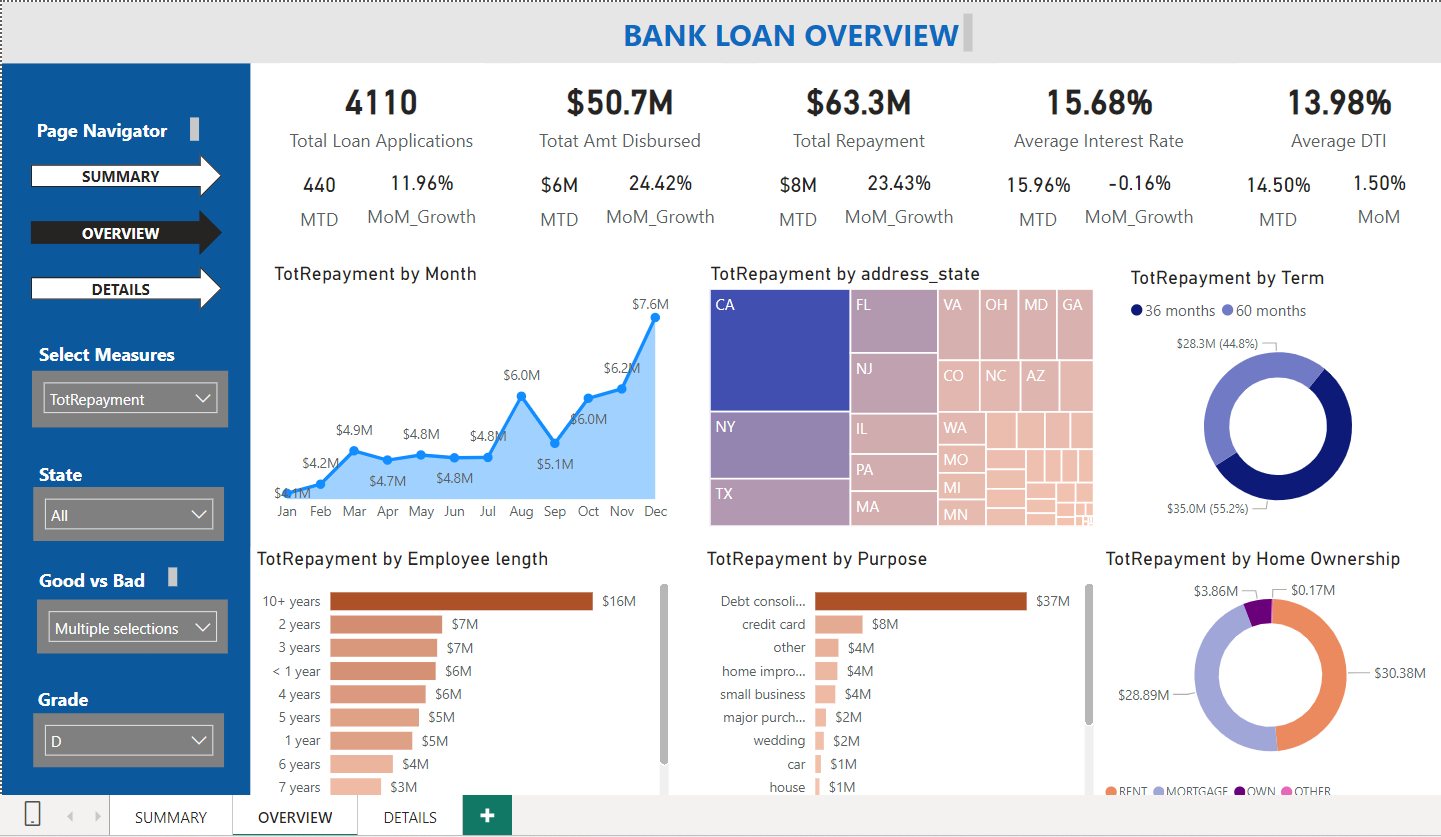

This screenshot's page, from the dashboard's own definition file:
{"tool":"powerbi","page":{"name":"OVERVIEW","canvas":[1280,720],"ordinal":1},"visuals":[{"type":"shape","box":[0,54.7,220.9,665.1],"z":0},{"type":"card","fields":{"Values":["LoanData.TotLoanApplications"]},"box":[246.5,54.7,181.4,87.2],"z":0,"group":"g1"},{"type":"card","fields":{"Values":["LoanData.TotAmtDisbursed"]},"box":[459,54.7,181.4,87.2],"z":0,"group":"g2"},{"type":"card","fields":{"Values":["LoanData.TotRepayment"]},"box":[671.4,54.7,181.4,87.2],"z":0,"group":"g3"},{"type":"card","fields":{"Values":["LoanData.AvgIntRate"]},"box":[884.6,54.7,181.4,87.2],"z":0,"group":"g4"},{"type":"card","fields":{"Values":["LoanData.AvgDTI"]},"box":[1097.8,54.7,181.4,87.2],"z":0,"group":"g5"},{"type":"shape","box":[0,0,1280.2,54.7],"z":1000},{"type":"card","fields":{"Values":["LoanData.MTD_TotApplications"]},"box":[246.6,142.3,70.9,64],"z":1000,"group":"g1"},{"type":"card","fields":{"Values":["LoanData.MTD_TotDisbursed"]},"box":[458.6,142.3,73.3,64],"z":1000,"group":"g2"},{"type":"card","fields":{"Values":["LoanData.MTD_TotRepayment"]},"box":[671,142.3,73.3,64],"z":1000,"group":"g3"},{"type":"card","fields":{"Values":["LoanData.MTD_IntRate"]},"box":[884.2,142.3,73.3,64],"z":1000,"group":"g4"},{"type":"card","fields":{"Values":["LoanData.MTD_DTI"]},"box":[1097.4,142.3,73.3,64],"z":1000,"group":"g5"},{"type":"textbox","box":[546.7,5.6,321.1,44.4],"z":2000},{"type":"card","fields":{"Values":["LoanData.MoM_LoanAppl"]},"box":[317.4,139.6,110.5,66.3],"z":2000,"group":"g1"},{"type":"card","fields":{"Values":["LoanData.MoM_AmtDisbursed"]},"box":[530,139.6,110.5,66.3],"z":2000,"group":"g2"},{"type":"card","fields":{"Values":["LoanData.MoM_TotRepayment"]},"box":[742.4,139.6,110.5,66.3],"z":2000,"group":"g3"},{"type":"card","fields":{"Values":["LoanData.MoM_IntRate"]},"box":[955.6,139.6,110.5,66.3],"z":2000,"group":"g4"},{"type":"card","fields":{"Values":["LoanData.MoM_DTI"]},"box":[1168.8,139.6,110.5,66.3],"z":2000,"group":"g5"},{"type":"group","id":"g1","title":"Group 1","box":[246.5,54.7,181.4,151.2],"z":3000},{"type":"group","id":"g2","title":"Group 1","box":[458.6,54.7,181.8,151.6],"z":4000},{"type":"group","id":"g3","title":"Group 1","box":[671,54.7,182.6,151.2],"z":5000},{"type":"group","id":"g4","title":"Group 1","box":[884.2,54.7,182.6,151.2],"z":6000},{"type":"group","id":"g5","title":"Group 1","box":[1097.4,54.7,182.6,151.2],"z":7000},{"type":"group","id":"g6","title":"Group 5","box":[27.4,403.8,169.8,75.6],"z":8000},{"type":"group","id":"g7","title":"Group 5","box":[27.8,498.1,172.8,81.1],"z":9000},{"type":"group","id":"g8","title":"Group 5","box":[26.7,602.9,170.4,76.5],"z":10000},{"type":"areaChart","fields":{"Y":["LoanData.TotRepayment"],"Category":["DateTable.Month"]},"box":[236.7,231.1,361.1,240],"z":11000},{"type":"group","id":"g9","title":"Group 2","box":[26.7,296.5,174.4,81.4],"z":12000},{"type":"slicer","fields":{"Values":["LoanData.address_state"]},"box":[27.4,431.7,169.8,47.7],"z":12000,"group":"g6"},{"type":"slicer","fields":{"Values":["LoanData.Good vs Bad loans"]},"box":[30.9,531.5,169.8,47.7],"z":12000,"group":"g7"},{"type":"slicer","fields":{"Values":["LoanData.grade"]},"box":[27.4,631.7,169.8,47.7],"z":12000,"group":"g8"},{"type":"textbox","box":[25.6,97.8,154.4,31.1],"z":13000,"group":"g10"},{"type":"treemap","fields":{"Values":["LoanData.TotRepayment"],"Group":["LoanData.address_state"]},"box":[624.4,231.1,351.1,240],"z":13000},{"type":"textbox","box":[27.9,296.5,140.7,31.4],"z":13000,"group":"g9"},{"type":"textbox","box":[27.4,403.8,54.7,31.4],"z":13000,"group":"g6"},{"type":"textbox","box":[27.8,498.1,133.3,36.7],"z":13000,"group":"g7"},{"type":"textbox","box":[26.7,602.9,82.6,32.6],"z":13000,"group":"g8"},{"type":"donutChart","fields":{"Y":["LoanData.TotRepayment"],"Category":["LoanData.term"]},"box":[997.8,234.4,273.3,236.7],"z":14000},{"type":"pageNavigator","box":[25.6,134.5,170,142.2],"z":14001,"group":"g10"},{"type":"slicer","fields":{"Values":["Select Measures.Select Measures"]},"box":[26.7,327.9,174.4,50],"z":14002,"group":"g9"},{"type":"barChart","fields":{"Y":["LoanData.TotRepayment"],"Category":["LoanData.emp_length"]},"box":[221.1,484.4,376.7,235.6],"z":15000},{"type":"barChart","fields":{"Y":["LoanData.TotRepayment"],"Category":["LoanData.purpose"]},"box":[621.1,484.4,354.4,235.6],"z":16000},{"type":"donutChart","fields":{"Y":["LoanData.TotRepayment"],"Category":["LoanData.home_ownership"]},"box":[975.6,484.4,304.4,235.6],"z":17000},{"type":"group","id":"g10","title":"Group 6","box":[25.6,97.8,170,178.9],"z":18000}]}

Visuals, with their boxes on the page's 1280x720 design canvas (x1, y1, x2, y2). These are canvas units, not pixel positions in the 1441x837 screenshot, which may show the page scaled, cropped or inside an application window:
shape: 0, 55, 221, 720
card - LoanData.TotLoanApplications: 246, 55, 428, 142
card - LoanData.TotAmtDisbursed: 459, 55, 640, 142
card - LoanData.TotRepayment: 671, 55, 853, 142
card - LoanData.AvgIntRate: 885, 55, 1066, 142
card - LoanData.AvgDTI: 1098, 55, 1279, 142
shape: 0, 0, 1280, 55
card - LoanData.MTD_TotApplications: 247, 142, 318, 206
card - LoanData.MTD_TotDisbursed: 459, 142, 532, 206
card - LoanData.MTD_TotRepayment: 671, 142, 744, 206
card - LoanData.MTD_IntRate: 884, 142, 958, 206
card - LoanData.MTD_DTI: 1097, 142, 1171, 206
textbox: 547, 6, 868, 50
card - LoanData.MoM_LoanAppl: 317, 140, 428, 206
card - LoanData.MoM_AmtDisbursed: 530, 140, 640, 206
card - LoanData.MoM_TotRepayment: 742, 140, 853, 206
card - LoanData.MoM_IntRate: 956, 140, 1066, 206
card - LoanData.MoM_DTI: 1169, 140, 1279, 206
"Group 1" group: 246, 55, 428, 206
"Group 1" group: 459, 55, 640, 206
"Group 1" group: 671, 55, 854, 206
"Group 1" group: 884, 55, 1067, 206
"Group 1" group: 1097, 55, 1280, 206
"Group 5" group: 27, 404, 197, 479
"Group 5" group: 28, 498, 201, 579
"Group 5" group: 27, 603, 197, 679
areaChart - LoanData.TotRepayment x DateTable.Month: 237, 231, 598, 471
"Group 2" group: 27, 296, 201, 378
slicer - LoanData.address_state: 27, 432, 197, 479
slicer - LoanData.Good vs Bad loans: 31, 532, 201, 579
slicer - LoanData.grade: 27, 632, 197, 679
textbox: 26, 98, 180, 129
treemap - LoanData.TotRepayment x LoanData.address_state: 624, 231, 976, 471
textbox: 28, 296, 169, 328
textbox: 27, 404, 82, 435
textbox: 28, 498, 161, 535
textbox: 27, 603, 109, 636
donutChart - LoanData.TotRepayment x LoanData.term: 998, 234, 1271, 471
pageNavigator: 26, 134, 196, 277
slicer - Select Measures.Select Measures: 27, 328, 201, 378
barChart - LoanData.TotRepayment x LoanData.emp_length: 221, 484, 598, 720
barChart - LoanData.TotRepayment x LoanData.purpose: 621, 484, 976, 720
donutChart - LoanData.TotRepayment x LoanData.home_ownership: 976, 484, 1280, 720
"Group 6" group: 26, 98, 196, 277
